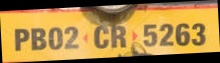character: (62, 25, 81, 50), (29, 26, 47, 51), (109, 24, 127, 49), (158, 21, 175, 47), (190, 21, 207, 47), (142, 23, 159, 48), (174, 22, 191, 47), (93, 23, 109, 49), (14, 27, 30, 52), (47, 26, 63, 50)
